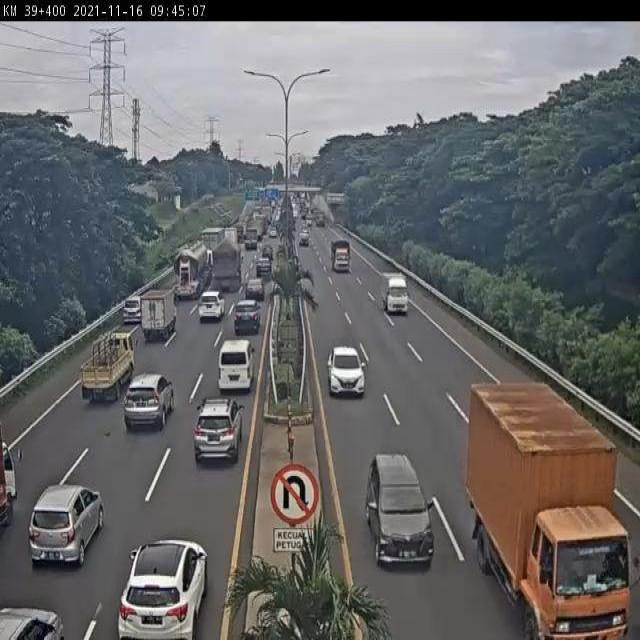car: (118, 538, 209, 640), (367, 454, 434, 570), (27, 482, 104, 566), (122, 373, 173, 432), (196, 398, 243, 462), (327, 346, 366, 398), (217, 340, 254, 391), (234, 301, 260, 336), (198, 292, 226, 321), (122, 295, 146, 325), (244, 278, 266, 302)
small truck: (80, 335, 134, 401), (140, 292, 175, 344), (383, 272, 409, 316)
truck-l-: (210, 243, 243, 296)
truck-m-: (469, 381, 631, 640)
truck-xl-: (172, 244, 212, 300)
